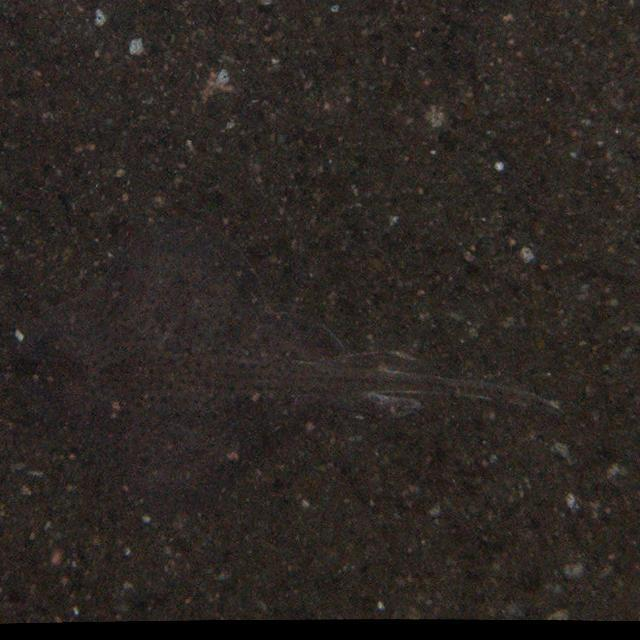skate: (21, 214, 571, 505)
